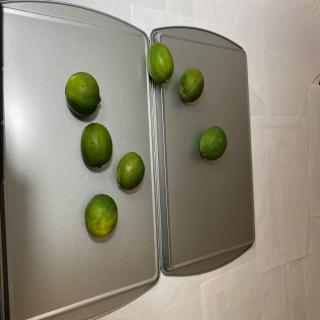Lemon: (65, 71, 101, 117), (84, 193, 118, 238), (80, 122, 112, 168), (146, 42, 174, 84), (116, 152, 145, 190), (179, 68, 204, 102)
